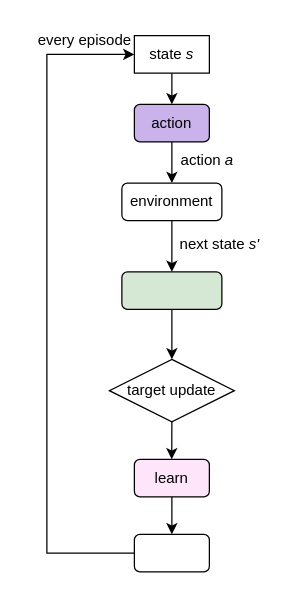
Some shapes in this 296 by 594 pixel diagram are drawn without their labels. Each missing label, with the box of its shape:
s' = s: (133, 533, 209, 572)
transition: (121, 271, 222, 309)
